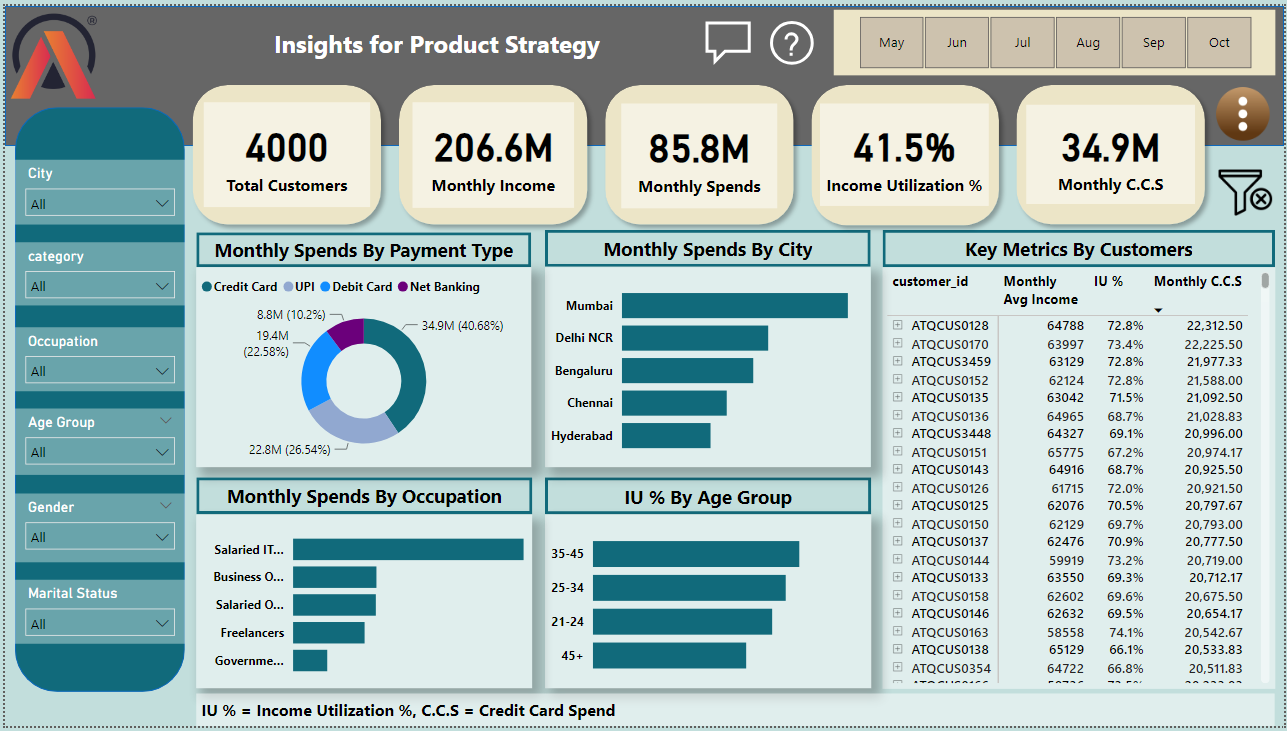

The dashboard page shown, as its layout file describes it:
{"tool":"powerbi","page":{"name":"Overview","canvas":[1280,720],"ordinal":0},"visuals":[{"type":"shape","box":[0,0,1280,140],"z":0},{"type":"shape","box":[1002.7,70,206.4,157.3],"z":1000},{"type":"shape","box":[880,468.5,269.2,40],"z":2000},{"type":"clusteredBarChart","fields":{"Category":["dim_customers.city"],"Y":["key_measures.Monthly Spends"]},"box":[540,260.8,325.8,200],"z":3000},{"type":"shape","box":[191.2,226.2,335,35],"z":4000},{"type":"shape","box":[9.8,100.9,169.8,584.6],"z":5000},{"type":"clusteredBarChart","title":"Customers by age_group","fields":{"Y":["key_measures.Income Utilization %"],"Category":["dim_customers.age_group"]},"box":[880,508.3,390,173.3],"z":6000},{"type":"clusteredBarChart","title":"Customers by occupation","fields":{"Category":["dim_customers.occupation"],"Y":["key_measures.Monthly Spends"]},"box":[880,261.7,389.2,199.2],"z":7000},{"type":"clusteredBarChart","title":"Customers by marital status","fields":{"Y":["key_measures.Income Utilization %"],"Category":["dim_customers.marital status"]},"box":[540,507.5,325.8,175],"z":8000},{"type":"slicer","fields":{"Values":["dim_customers.city"]},"box":[10,153.1,170,65],"z":9000},{"type":"donutChart","fields":{"Category":["fact_spends.payment_type"],"Y":["key_measures.Monthly Spend"]},"box":[191.1,261.1,335.6,200],"z":10000},{"type":"clusteredBarChart","title":"Customers by gender","fields":{"Y":["key_measures.Income Utilization %"],"Category":["dim_customers.gender"]},"box":[190.8,507.5,335,175],"z":11000},{"type":"slicer","fields":{"Values":["dim_customers.gender"]},"box":[10,487.9,170,68.6],"z":12000},{"type":"shape","box":[540,468.6,325.7,40],"z":13000},{"type":"slicer","fields":{"Values":["dim_customers.occupation"]},"box":[10,320.7,170,64.3],"z":14000},{"type":"shape","box":[880,224.2,350,36.7],"z":15000},{"type":"slicer","fields":{"Values":["dim_customers.age_group"]},"box":[9.8,402.2,169.9,66],"z":16000},{"type":"shape","box":[190.8,468.3,238.3,39.2],"z":17000},{"type":"slicer","fields":{"Values":["dim_customers.marital status"]},"box":[10,573.6,170,64.3],"z":18000},{"type":"shape","box":[540,224.3,325.7,37.1],"z":19000},{"type":"slicer","fields":{"Values":["fact_spends.month"]},"box":[828.6,4.3,441.4,65.7],"z":20000},{"type":"image","box":[0,0,99.7,99.7],"z":21000},{"type":"shape","box":[178.8,70,206.2,157.5],"z":22000},{"type":"card","fields":{"Values":["key_measures.Total Customers"]},"box":[198.8,96.2,166.2,105],"z":23000},{"type":"shape","box":[385,70,206.2,157.5],"z":24000},{"type":"shape","box":[591.2,70,206.2,157.5],"z":25000},{"type":"card","fields":{"Values":["key_measures.Monthly Spends"]},"box":[616.4,97.3,156.4,104.5],"z":26000},{"type":"shape","box":[797.3,70,205.5,158.2],"z":27000},{"type":"image","box":[1209.1,154.5,63.6,63.6],"z":28000},{"type":"slicer","fields":{"Values":["fact_spends.category"]},"box":[10,236.2,170,63.1],"z":29000},{"type":"textbox","box":[191.2,687.5,1078.8,32.5],"z":30000},{"type":"card","fields":{"Values":["key_measures.Income Utilisation %"]},"box":[815.5,97.3,169.1,102.7],"z":31000},{"type":"card","fields":{"Values":["key_measures.Monthly Credit Card Spend"]},"box":[1021.8,99.1,169.1,99.1],"z":32000},{"type":"card","fields":{"Values":["key_measures.Monthly Avg Income"]},"box":[407.3,96.4,161.8,105.5],"z":33000},{"type":"textbox","box":[253.8,16.2,356.2,53.8],"z":34000},{"type":"image","box":[1206.2,76.2,63.8,63.8],"z":35000},{"type":"actionButton","box":[758.8,8.8,56.2,56.2],"z":36000},{"type":"actionButton","box":[695,8.8,56.2,56.2],"z":37000}]}

Visuals, with their boxes in screenshot pixels (x1, y1, x2, y2), scaled from the page's 1280x720 canvas onto the 1287x731 screenshot:
shape: crop(0, 0, 1286, 142)
shape: crop(1008, 71, 1216, 231)
shape: crop(885, 476, 1155, 516)
clusteredBarChart - dim_customers.city x key_measures.Monthly Spends: crop(543, 265, 871, 468)
shape: crop(192, 230, 529, 265)
shape: crop(10, 102, 181, 696)
"Customers by age_group" clusteredBarChart: crop(885, 516, 1277, 692)
"Customers by occupation" clusteredBarChart: crop(885, 266, 1276, 468)
"Customers by marital status" clusteredBarChart: crop(543, 515, 871, 693)
slicer - dim_customers.city: crop(10, 155, 181, 221)
donutChart - fact_spends.payment_type x key_measures.Monthly Spend: crop(192, 265, 530, 468)
"Customers by gender" clusteredBarChart: crop(192, 515, 529, 693)
slicer - dim_customers.gender: crop(10, 495, 181, 565)
shape: crop(543, 476, 870, 516)
slicer - dim_customers.occupation: crop(10, 326, 181, 391)
shape: crop(885, 228, 1237, 265)
slicer - dim_customers.age_group: crop(10, 408, 181, 475)
shape: crop(192, 475, 431, 515)
slicer - dim_customers.marital status: crop(10, 582, 181, 648)
shape: crop(543, 228, 870, 265)
slicer - fact_spends.month: crop(833, 4, 1277, 71)
image: crop(0, 0, 100, 101)
shape: crop(180, 71, 387, 231)
card - key_measures.Total Customers: crop(200, 98, 367, 204)
shape: crop(387, 71, 594, 231)
shape: crop(594, 71, 802, 231)
card - key_measures.Monthly Spends: crop(620, 99, 777, 205)
shape: crop(802, 71, 1008, 232)
image: crop(1216, 157, 1280, 221)
slicer - fact_spends.category: crop(10, 240, 181, 304)
textbox: crop(192, 698, 1277, 730)
card - key_measures.Income Utilisation %: crop(820, 99, 990, 203)
card - key_measures.Monthly Credit Card Spend: crop(1027, 101, 1197, 201)
card - key_measures.Monthly Avg Income: crop(410, 98, 572, 205)
textbox: crop(255, 16, 613, 71)
image: crop(1213, 77, 1277, 142)
actionButton: crop(763, 9, 819, 66)
actionButton: crop(699, 9, 755, 66)
